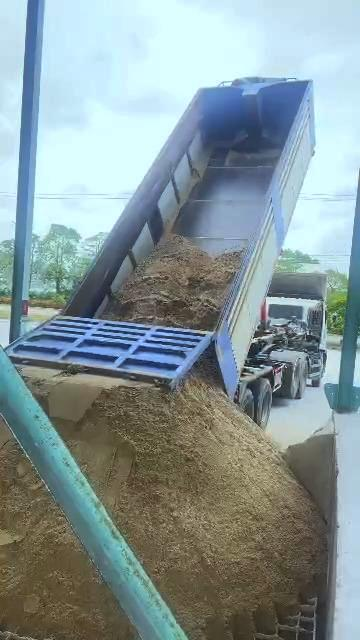sand: (23, 368, 325, 639), (0, 438, 135, 639), (102, 235, 241, 329), (286, 419, 336, 522), (192, 344, 223, 386)
